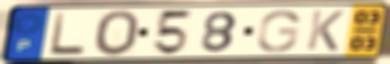5: (152, 9, 193, 56)
8: (200, 10, 238, 54)
G: (255, 9, 303, 53)
K: (304, 9, 347, 53)
L: (47, 11, 87, 57)
O: (93, 9, 142, 58)
